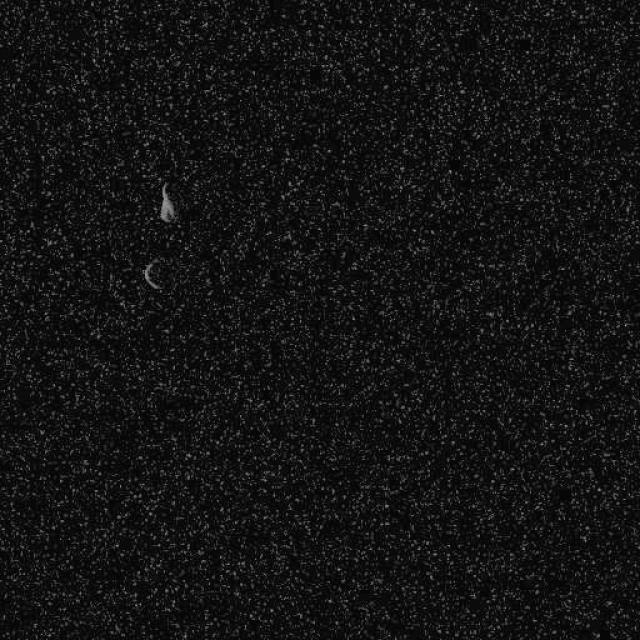D2: (142, 256, 166, 292), (158, 182, 176, 222)
